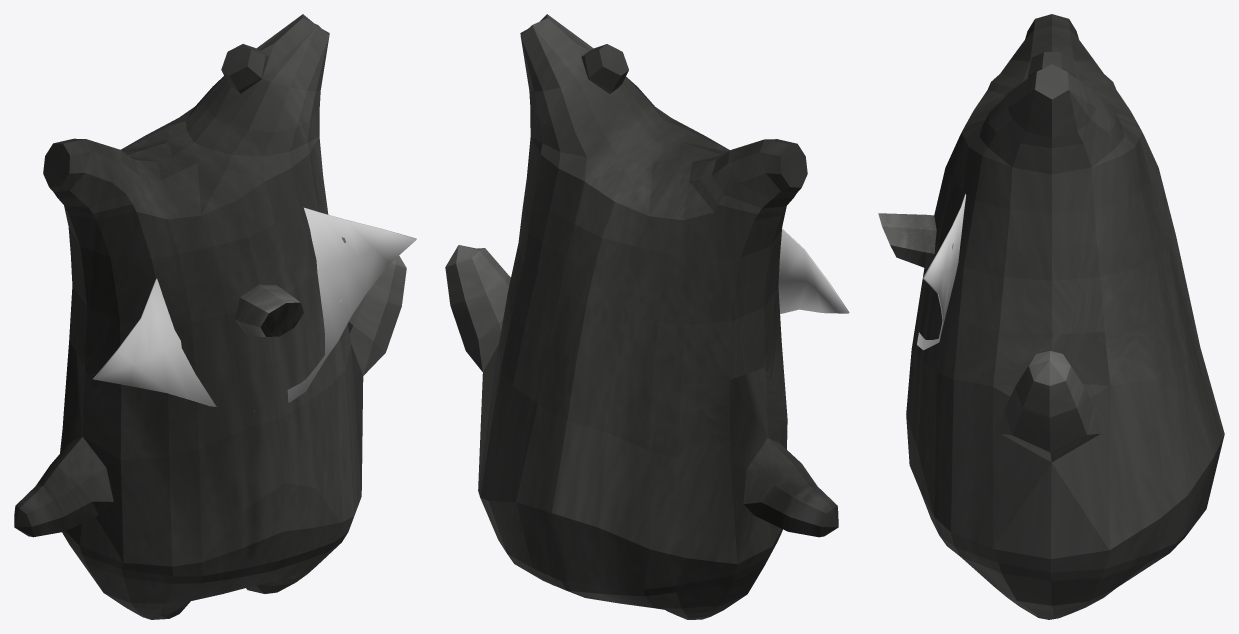
The model's file is frame_0004.obj.
3 renders of one model, left to right at view 1: azimuth 30°, elevation 25°; view 2: azimuth 150°, elevation 25°; view 3: azimuth 270°, elevation 25°, orthographic.
Parts seen in each view (by area): view 1: korok, leaf, nose; view 2: korok, leaf; view 3: korok, nose, leaf.
Part boxes in pixels (left/top/right/bottom): korok: left=14, top=14, right=406, bottom=619; leaf: left=93, top=207, right=416, bottom=411; nose: left=234, top=284, right=303, bottom=337; korok: left=445, top=14, right=838, bottom=619; leaf: left=778, top=228, right=849, bottom=313; korok: left=906, top=14, right=1224, bottom=619; nose: left=878, top=213, right=936, bottom=268; leaf: left=917, top=194, right=966, bottom=350.
Size of the model in its own units: 1.66 by 2.31 by 1.27.
